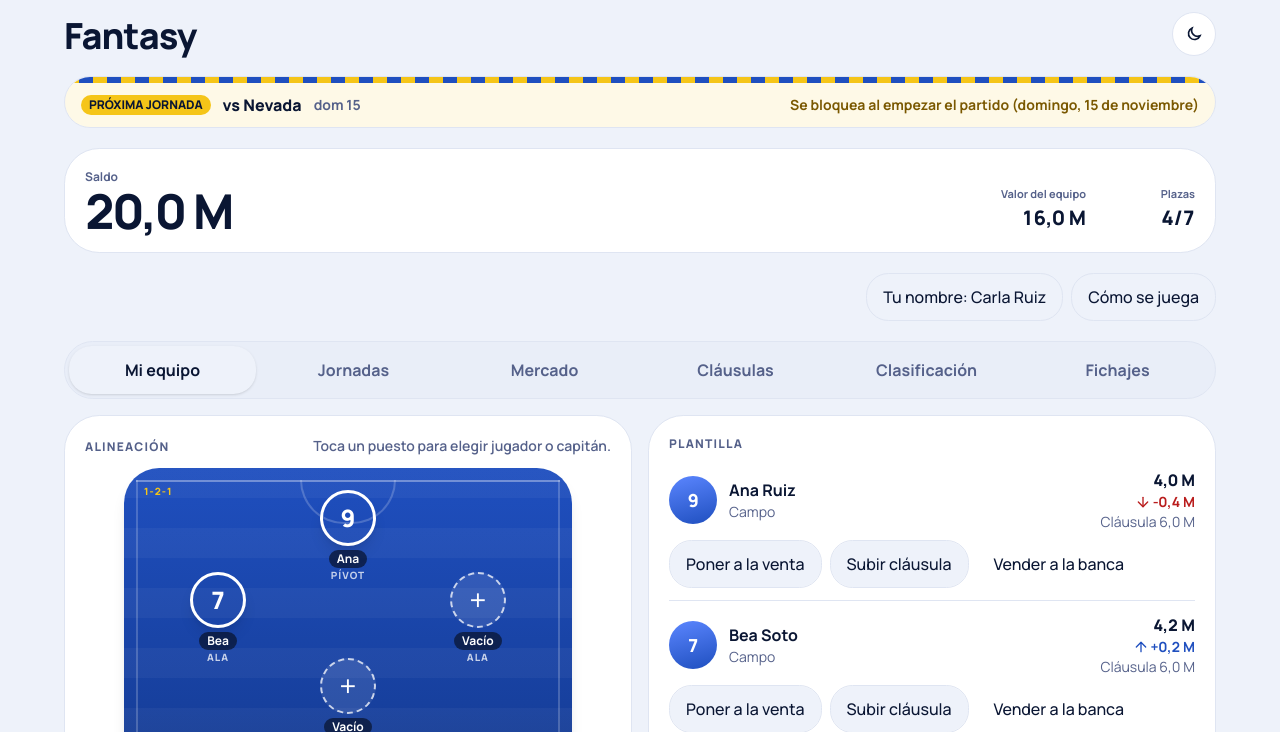
Test: Pestañas › empieza en Mi equipo y cambia de sección
What coordinates should you click on to do the following:
click the tab "Fichajes"
I would click on:
 (1118, 370)
Its box is top-left (1024, 346), bottom-right (1211, 394).
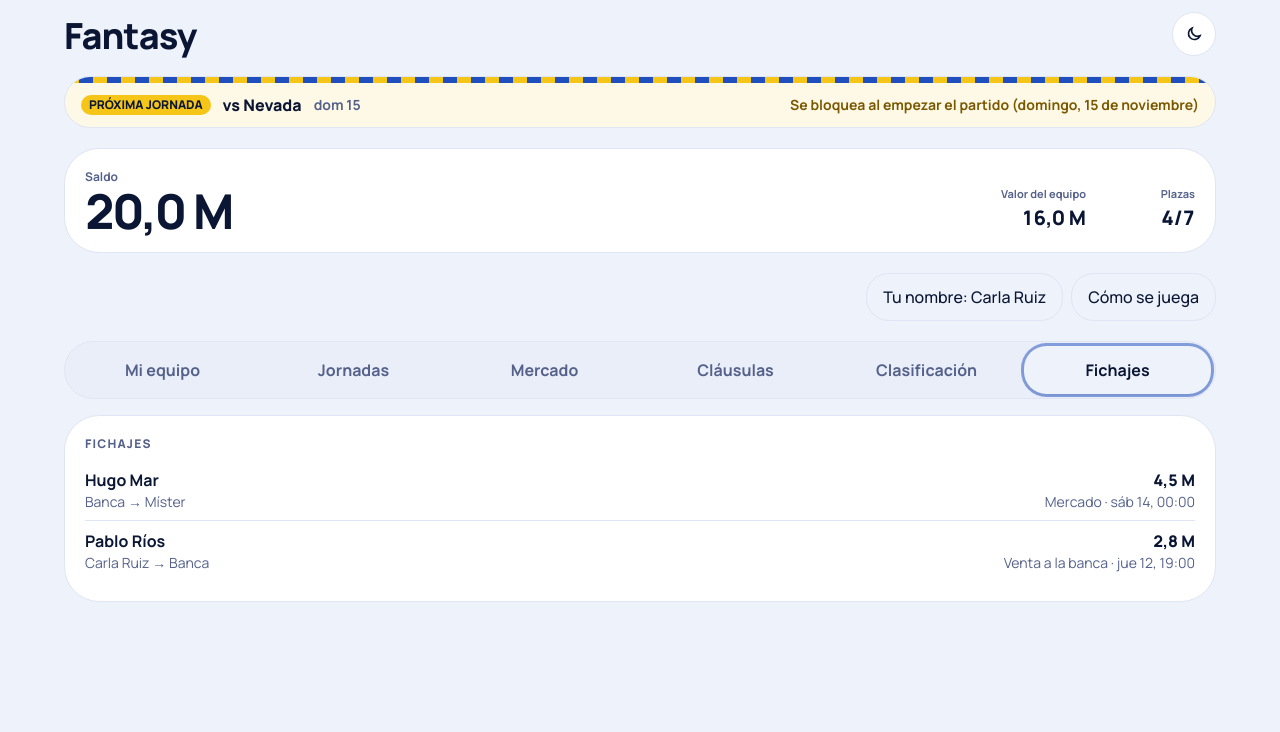
Check: the heading "Alineación" is gone
